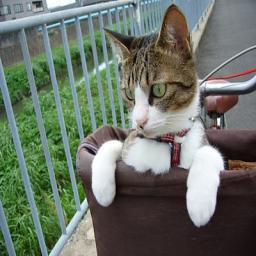catnose: (135, 114, 149, 130)
